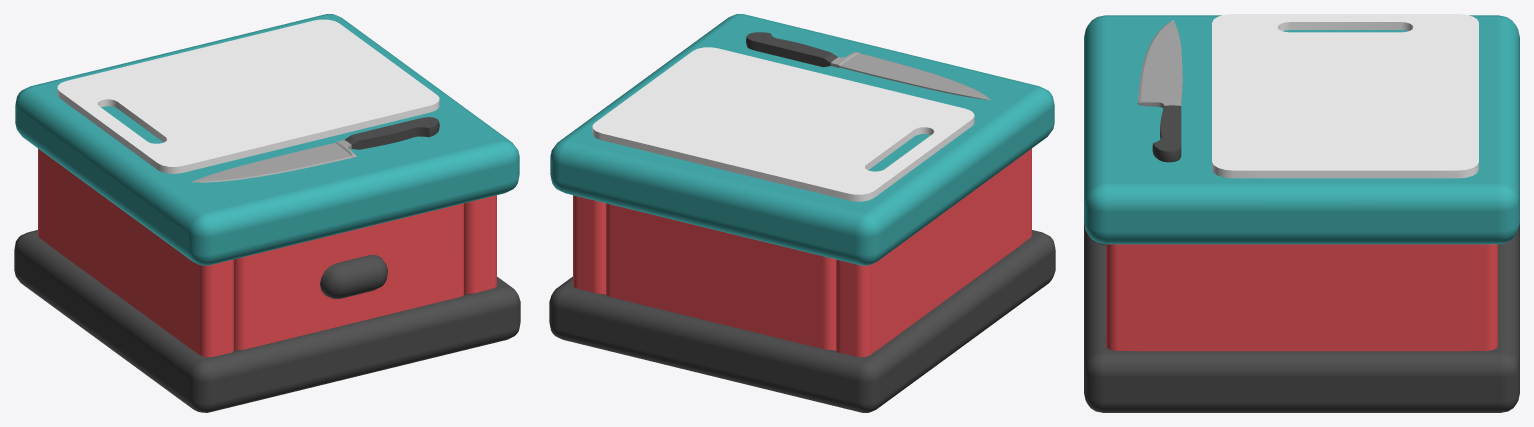
The model's file is ChopStation.fbx.
3 views of the same model, side by side, from view 1: azimuth 30°, elevation 25°; view 2: azimuth 150°, elevation 25°; view 3: azimuth 270°, elevation 25° (orthographic). The views are drawn at different scales.
Visible parts, largest first — view 1: ChopStation; view 2: ChopStation; view 3: ChopStation.
Boxes of the visible parts, x1=… form: ChopStation: x1=14, y1=14, x2=520, y2=412; ChopStation: x1=549, y1=14, x2=1055, y2=412; ChopStation: x1=1084, y1=14, x2=1519, y2=412.
Bounding box in the file's own units: 200 × 121 × 200.
